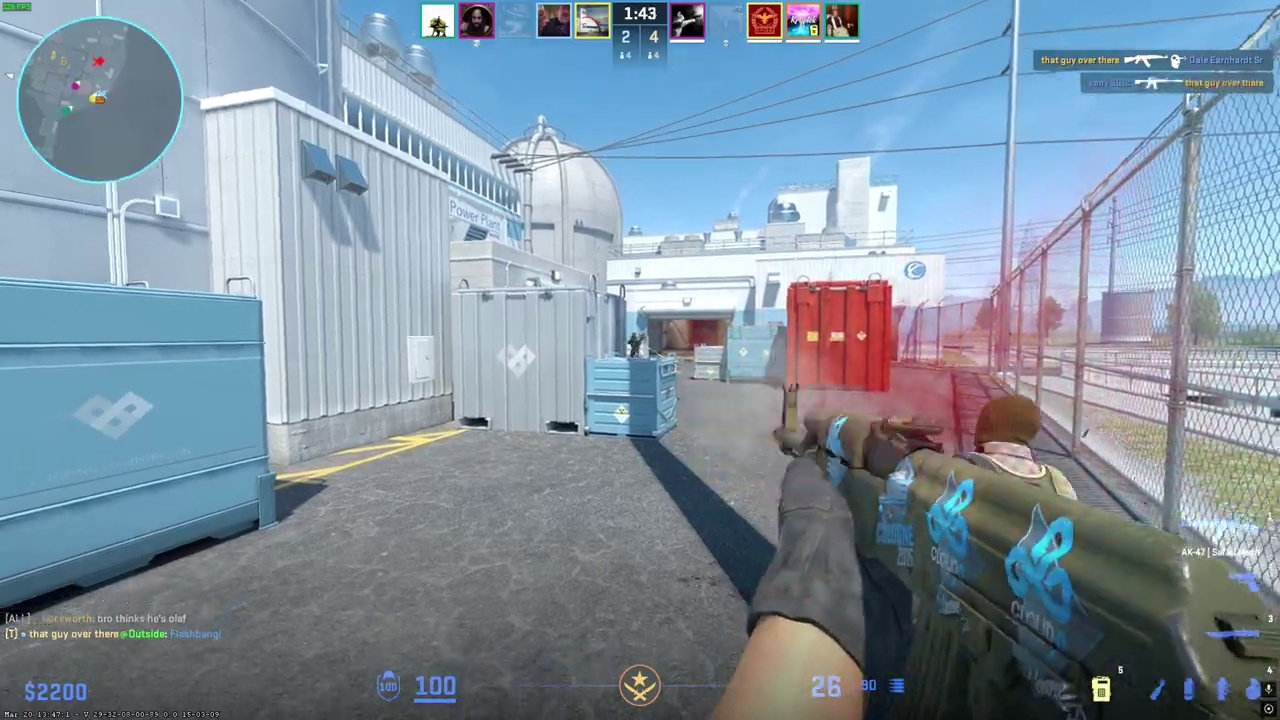CT: (627, 330, 643, 358)
